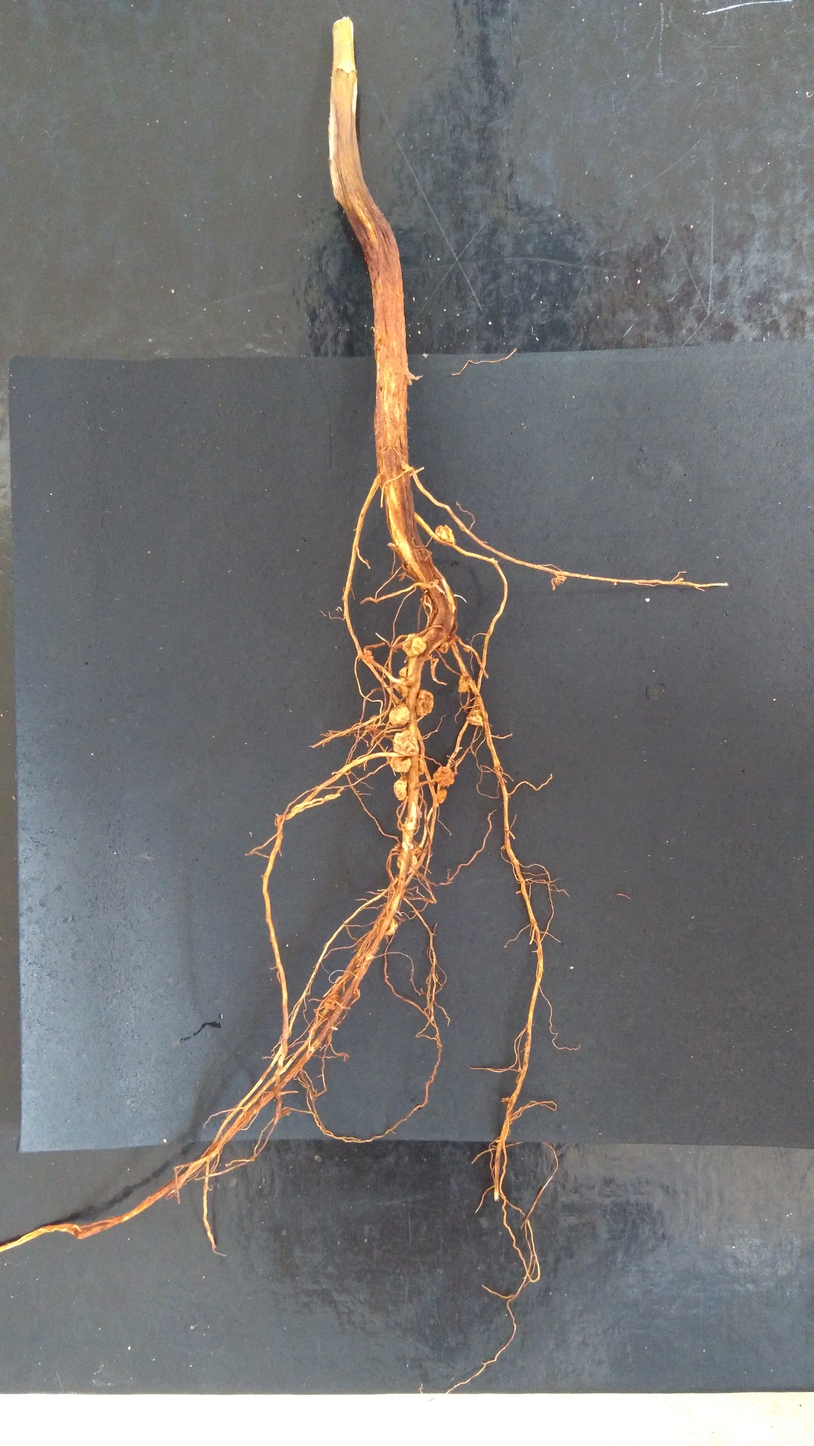nodule: (391, 728, 419, 758), (401, 632, 429, 659), (415, 688, 436, 721), (388, 702, 412, 727), (434, 523, 456, 547), (431, 765, 456, 786), (391, 775, 409, 804), (395, 852, 418, 873), (388, 755, 413, 774), (463, 708, 485, 728), (381, 916, 399, 939), (322, 992, 341, 1012), (457, 673, 471, 694), (435, 788, 448, 805), (437, 640, 451, 655), (397, 665, 410, 679), (417, 756, 425, 775), (461, 645, 473, 655), (364, 655, 375, 665), (366, 649, 373, 656)
